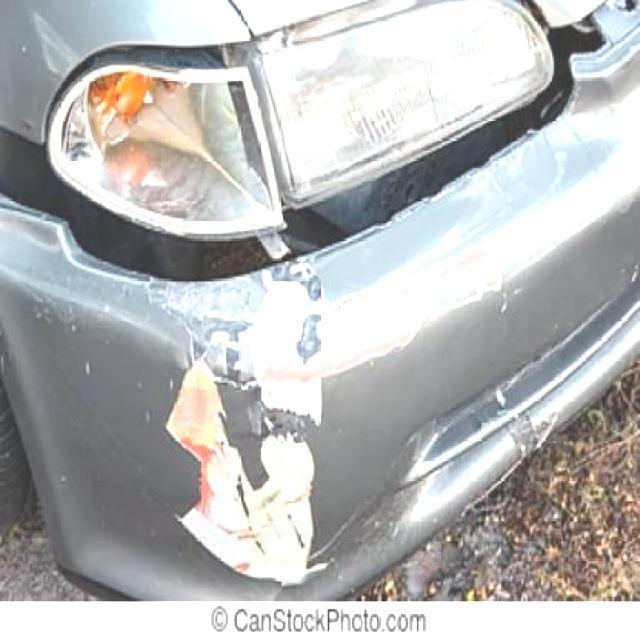minor: (0, 38, 640, 602)
